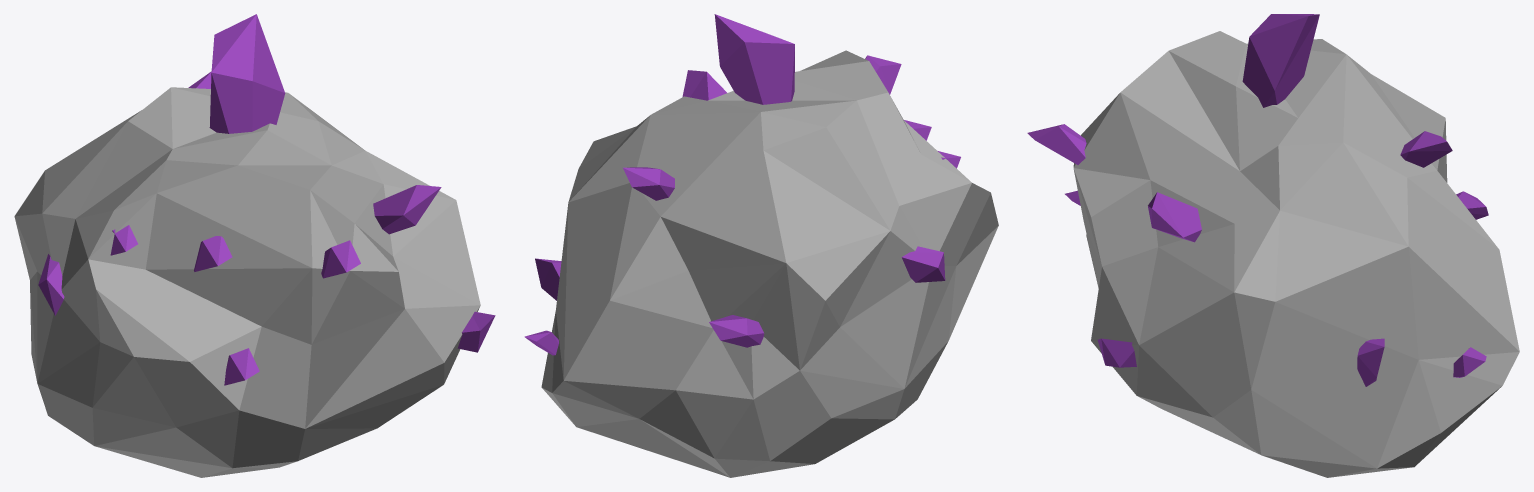
The model's file is CursedOre.fbx.
3 views of the same model, side by side, from view 1: azimuth 30°, elevation 25°; view 2: azimuth 150°, elevation 25°; view 3: azimuth 270°, elevation 25° (orthographic). The views are drawn at different scales.
Parts seen in each view (by area): view 1: CursedOre; view 2: CursedOre; view 3: CursedOre.
Boxes of the visible parts, x1,y1,x2,y2 form: CursedOre: [14, 14, 495, 477]; CursedOre: [524, 14, 998, 477]; CursedOre: [1027, 14, 1519, 477].
Size of the model in its own units: 356 by 388 by 394.
